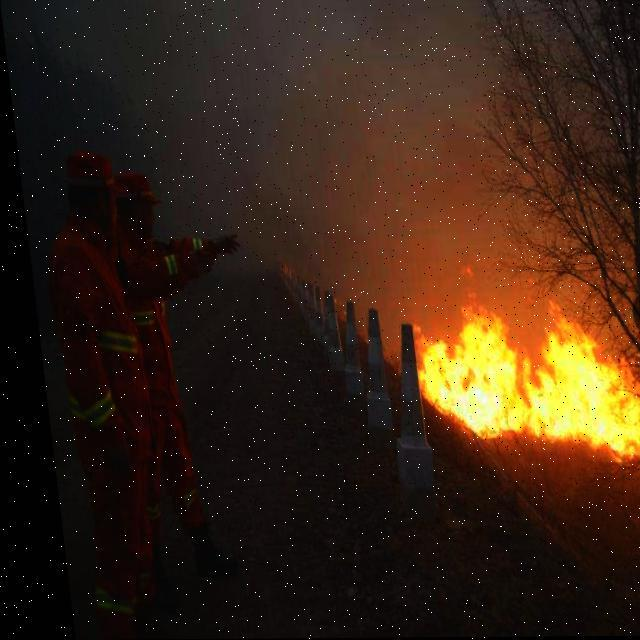Fire: (400, 288, 639, 473)
